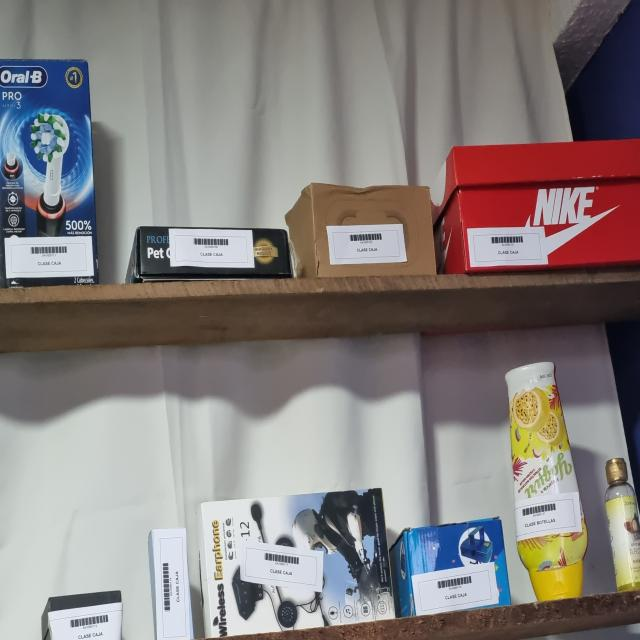botella: (505, 362, 588, 600), (605, 458, 640, 591)
caja: (201, 489, 395, 636), (430, 140, 640, 274), (0, 60, 99, 287), (285, 183, 436, 279), (390, 518, 511, 617), (125, 226, 295, 283), (148, 528, 194, 640), (42, 591, 123, 640)
